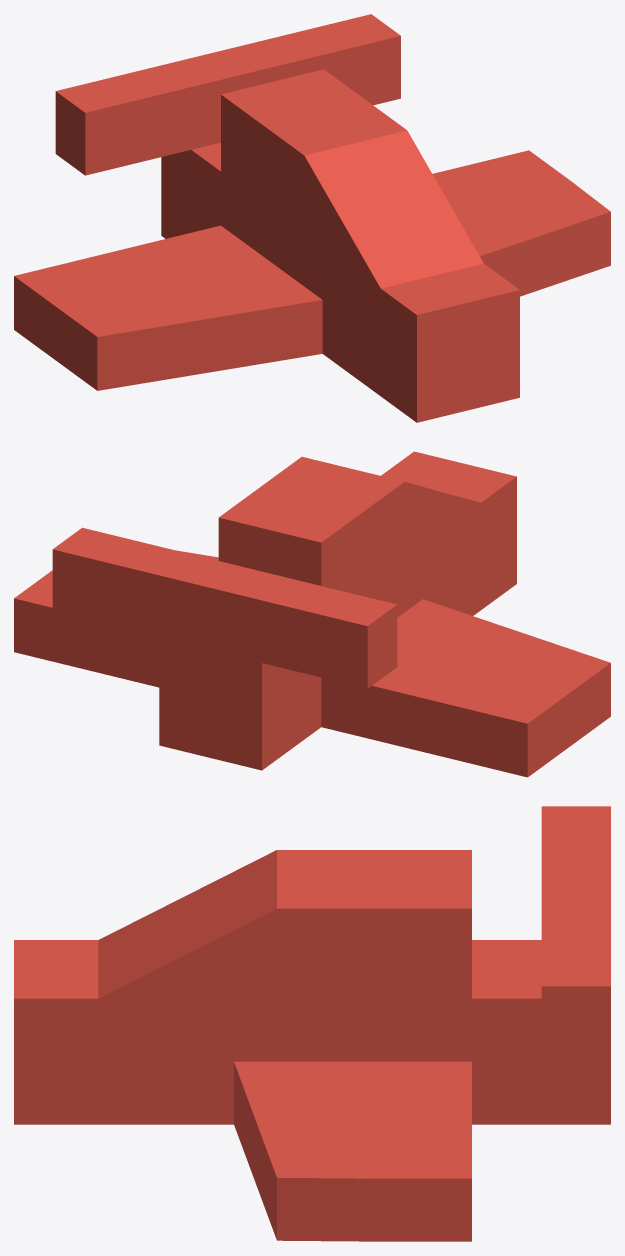
3 views of the same model, one above another, from view 1: azimuth 30°, elevation 25°; view 2: azimuth 150°, elevation 25°; view 3: azimuth 270°, elevation 25° (orthographic). The views are drawn at different scales.
Visible parts, largest first — view 1: Cube; view 2: Cube; view 3: Cube.
Boxes of the visible parts, bbox=[...] form: Cube: bbox=[14, 14, 610, 422]; Cube: bbox=[14, 451, 610, 777]; Cube: bbox=[14, 806, 610, 1241].
Size of the model in its own units: 10 by 3.43 by 8.59.
